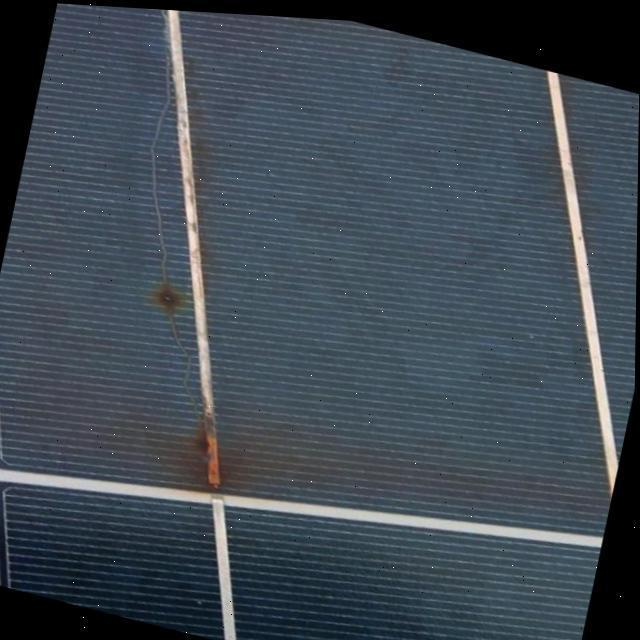Structural Damage: (146, 48, 170, 283), (161, 308, 207, 421)
